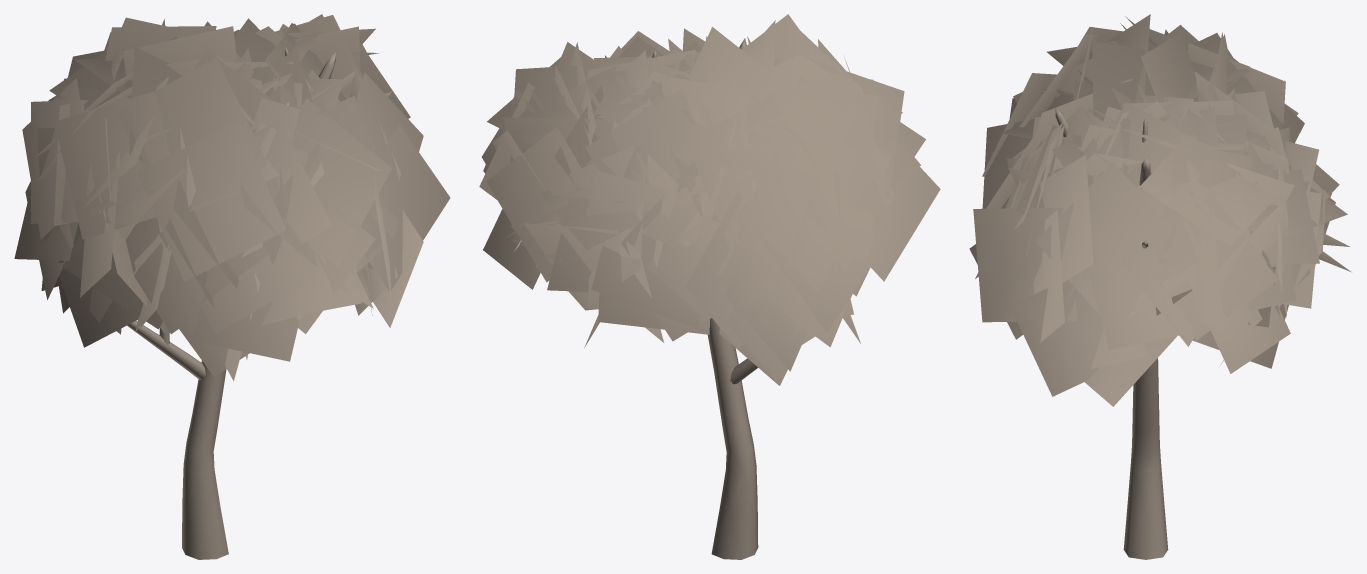
Rendered from MapleTree_4.glb.
3 renders of one model, left to right at view 1: azimuth 30°, elevation 25°; view 2: azimuth 150°, elevation 25°; view 3: azimuth 270°, elevation 25°, orthographic. The views are drawn at different scales.
Parts seen in each view (by area): view 1: MapleTree_Leaves, MapleTree_Bark; view 2: MapleTree_Leaves, MapleTree_Bark; view 3: MapleTree_Leaves, MapleTree_Bark.
Part boxes in pixels (x1,y1,x2,y2): MapleTree_Leaves: (14,14,450,380); MapleTree_Bark: (127,47,336,559); MapleTree_Leaves: (479,14,940,385); MapleTree_Bark: (605,38,758,559); MapleTree_Leaves: (969,14,1351,406); MapleTree_Bark: (1055,107,1168,559).
Bounding box in the file's own units: 2.77 × 3.59 × 2.43.
